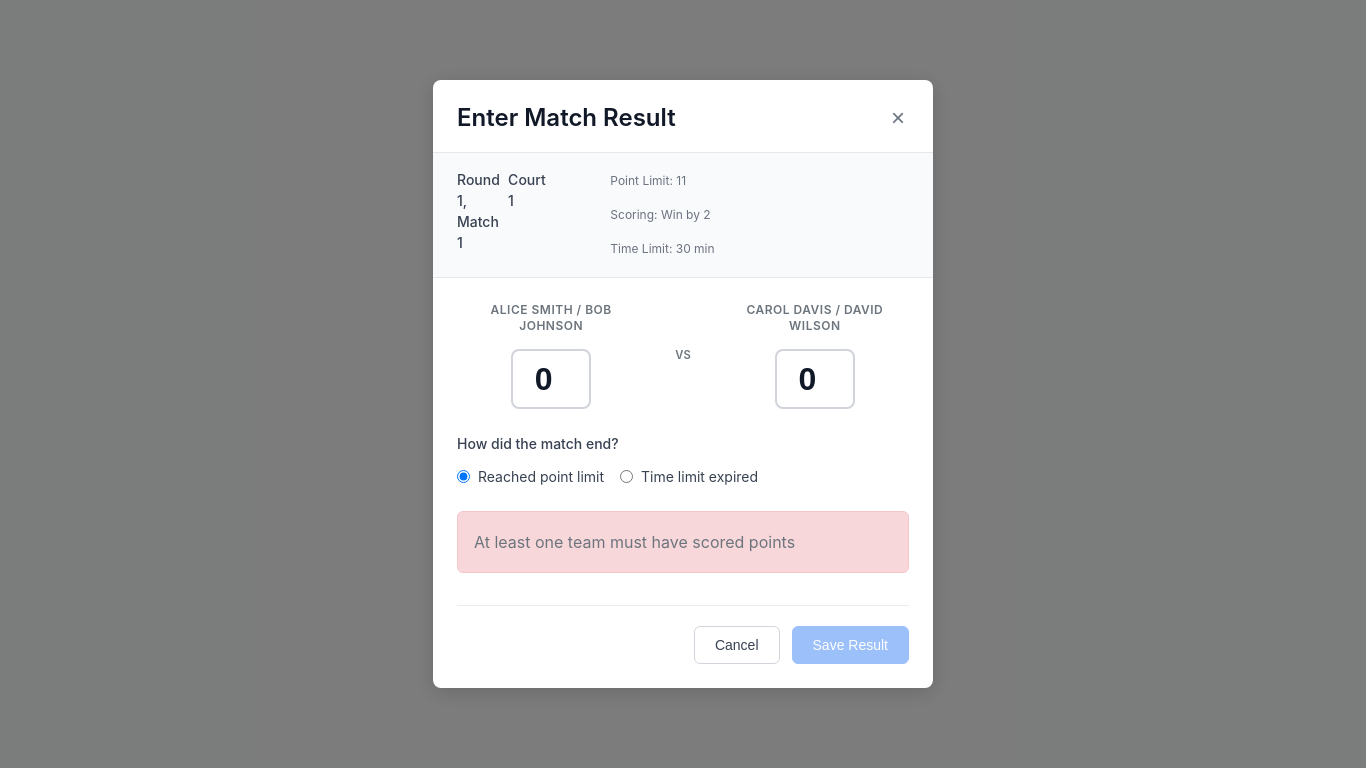
ScoreEntry Component › score input › should show validation errors for invalid scores
Note: Enter scores that don't meet win-by-2 requirement
Replace the text in the number field below "Alice Smith / Bob Johnson" with "11" at point(551, 379), box left=511, top=349, right=591, bottom=409
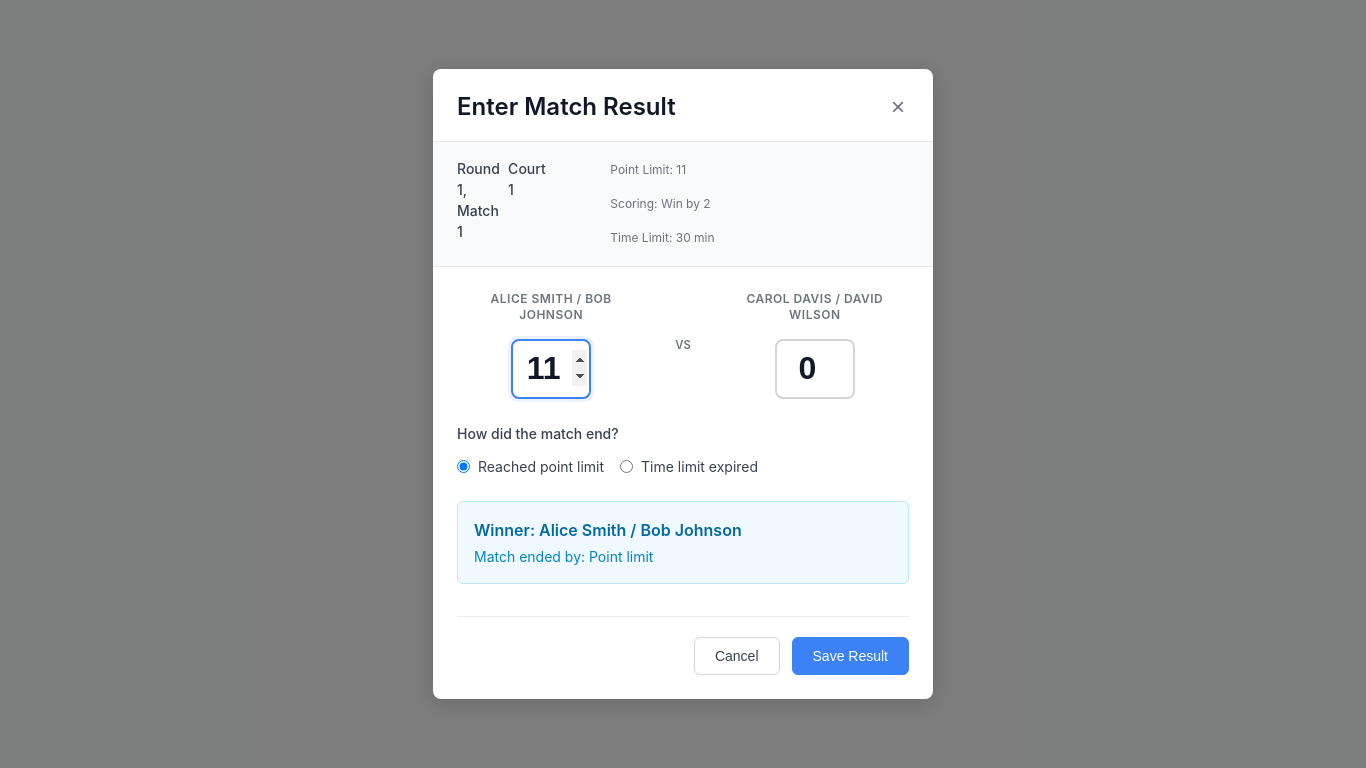
Replace the text in the number field below "Carol Davis / David Wilson" with "10" at point(815, 369), box left=775, top=339, right=855, bottom=399
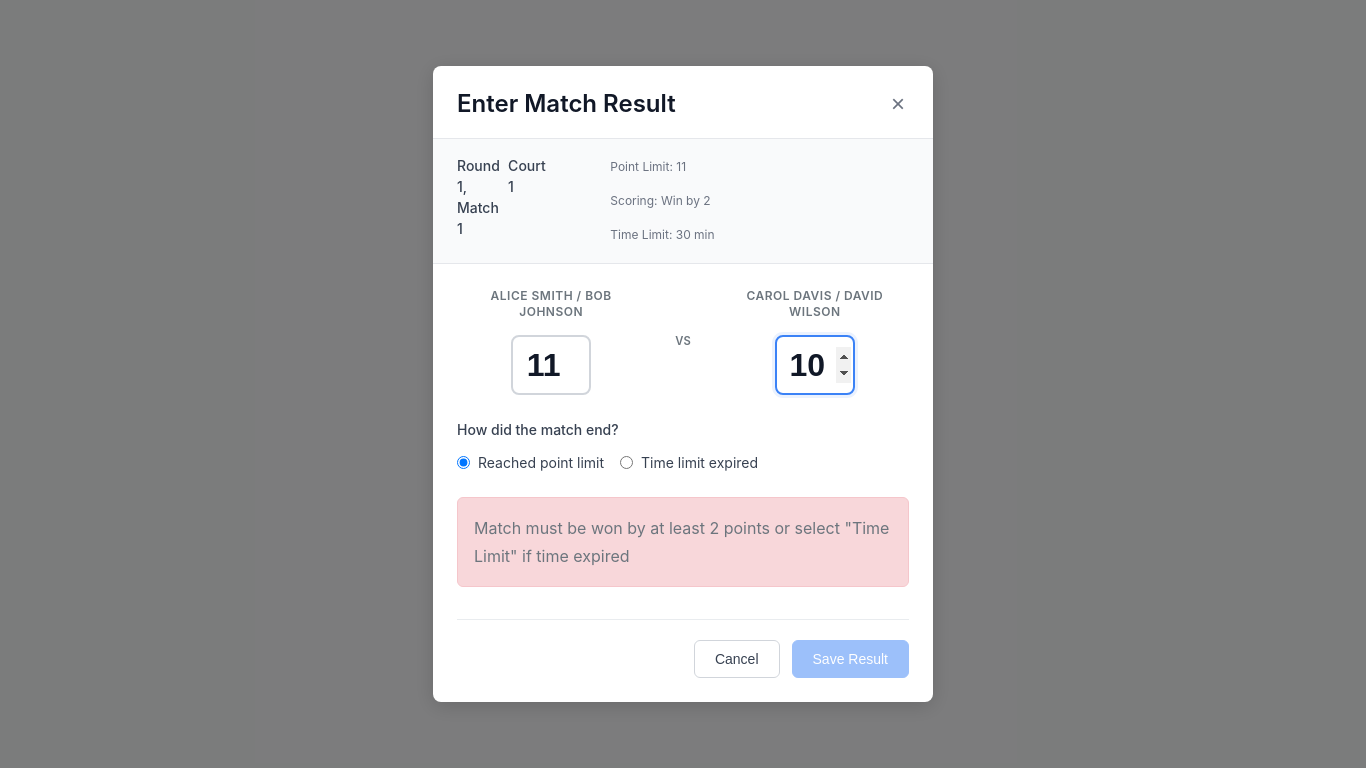
Result: the text "Match must be won by at least 2 points" is shown at left=474, top=518, right=889, bottom=566
